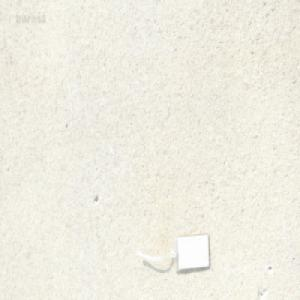LuggageTag: (131, 231, 208, 273)
